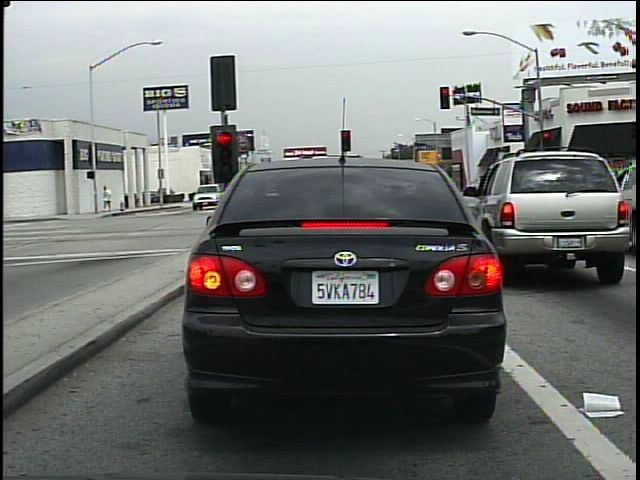person: (100, 182, 115, 212)
